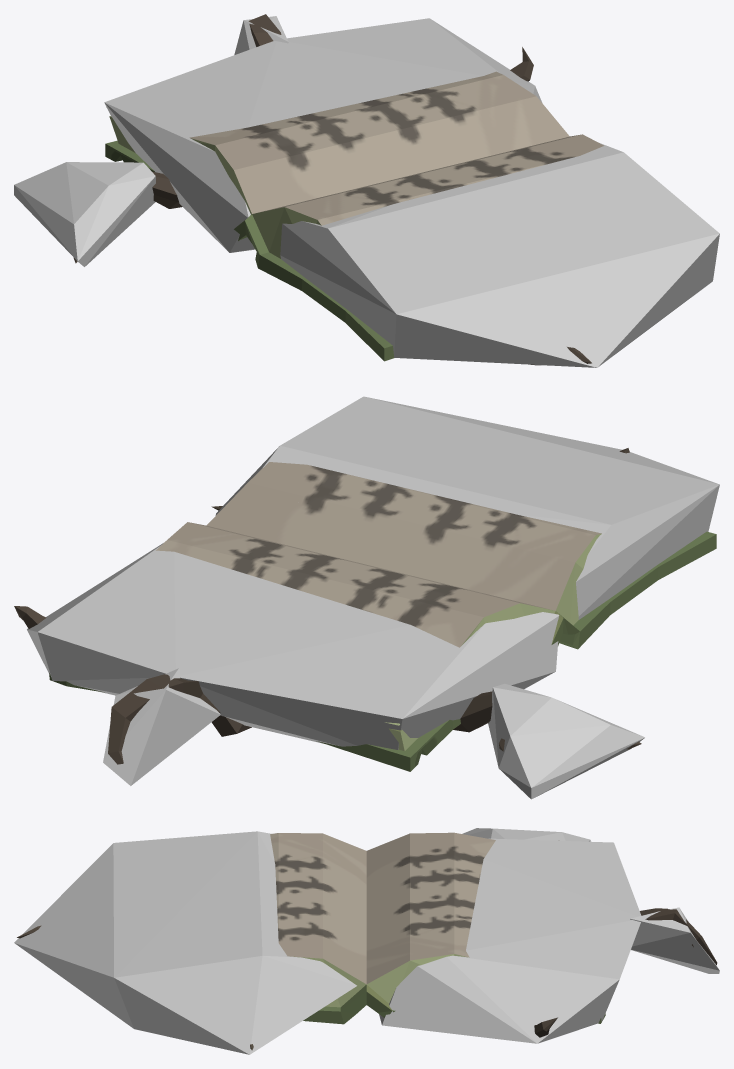
The model's file is SM_Item_Spellbook_Open_04.fbx.
The picture shows the model from 3 angles, top to bottom: view 1: azimuth 30°, elevation 25°; view 2: azimuth 150°, elevation 25°; view 3: azimuth 270°, elevation 25°; orthographic projection. The views are drawn at different scales.
Parts seen in each view (by area): view 1: SM_Item_Spellbook_Open_04_ConvexHulls, SM_Item_Spellbook_Open_04; view 2: SM_Item_Spellbook_Open_04_ConvexHulls, SM_Item_Spellbook_Open_04; view 3: SM_Item_Spellbook_Open_04_ConvexHulls, SM_Item_Spellbook_Open_04.
Boxes of the visible parts, <box> form: SM_Item_Spellbook_Open_04_ConvexHulls: <box>14,16,719,367</box>; SM_Item_Spellbook_Open_04: <box>73,14,603,365</box>; SM_Item_Spellbook_Open_04_ConvexHulls: <box>27,396,719,799</box>; SM_Item_Spellbook_Open_04: <box>14,448,716,771</box>; SM_Item_Spellbook_Open_04_ConvexHulls: <box>14,828,719,1054</box>; SM_Item_Spellbook_Open_04: <box>17,832,717,1050</box>.
Bounding box in the file's own units: 74.43 × 103 × 13.12.
2 materials, 1 textured.
